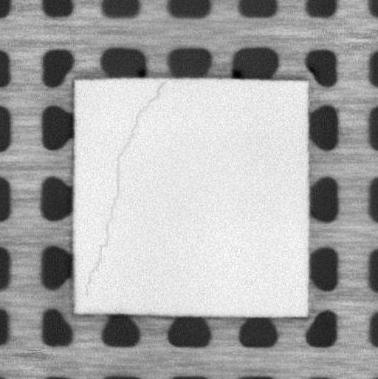DIE_CRACK: (83, 81, 167, 297)
